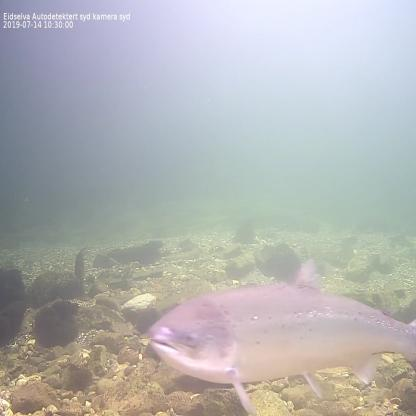salmon: (145, 257, 416, 415)
